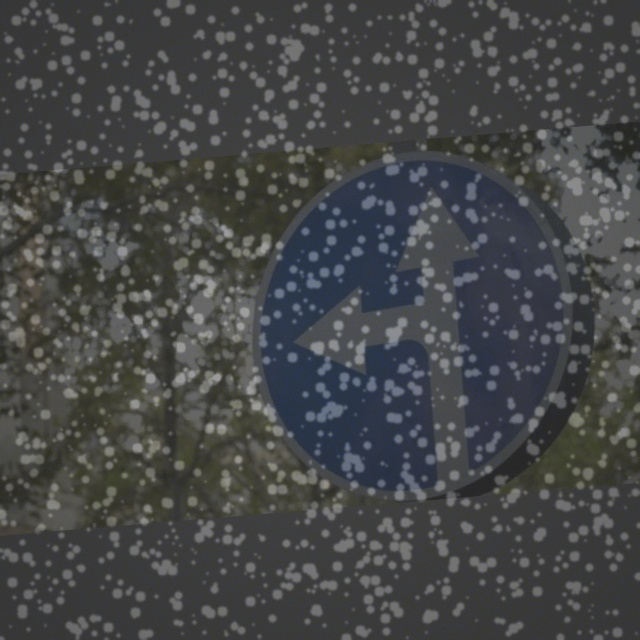Compulsory_Ahead_or_Turn_Left: (240, 140, 607, 503)
